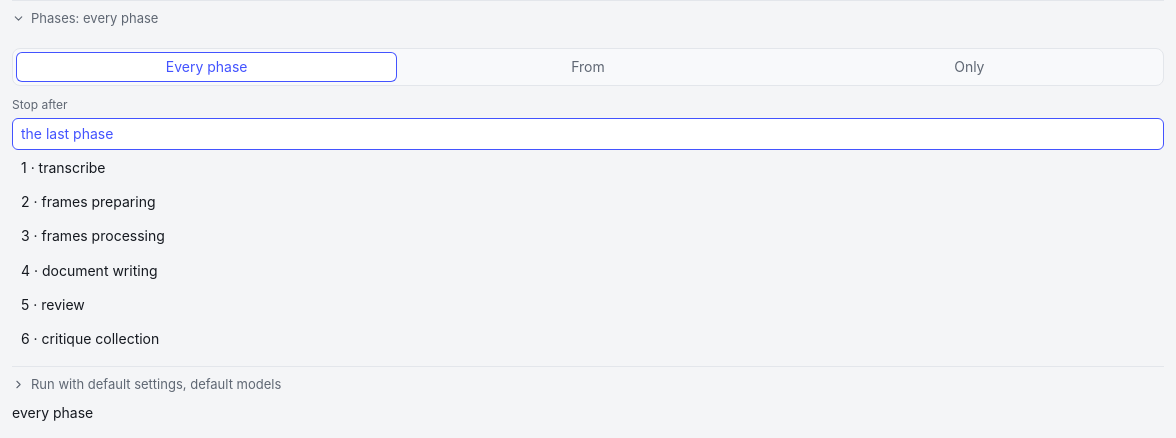
Test: PhaseSelector › folds the phases and the run settings so that opening one closes the other defect
This screenshot has width=1176, height=438.
Later steps or results of the test are not shown.
Click the heading "Run with default settings, default models" at (147, 384), box [12, 376, 281, 392]
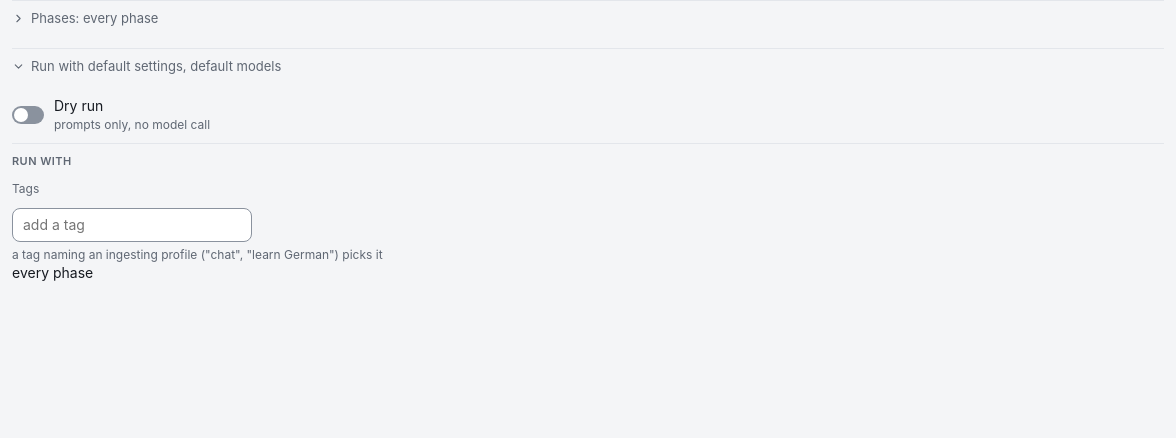
Click the checkbox labelled "Dry run prompts only, no model call" at (111, 114), box [12, 97, 210, 132]
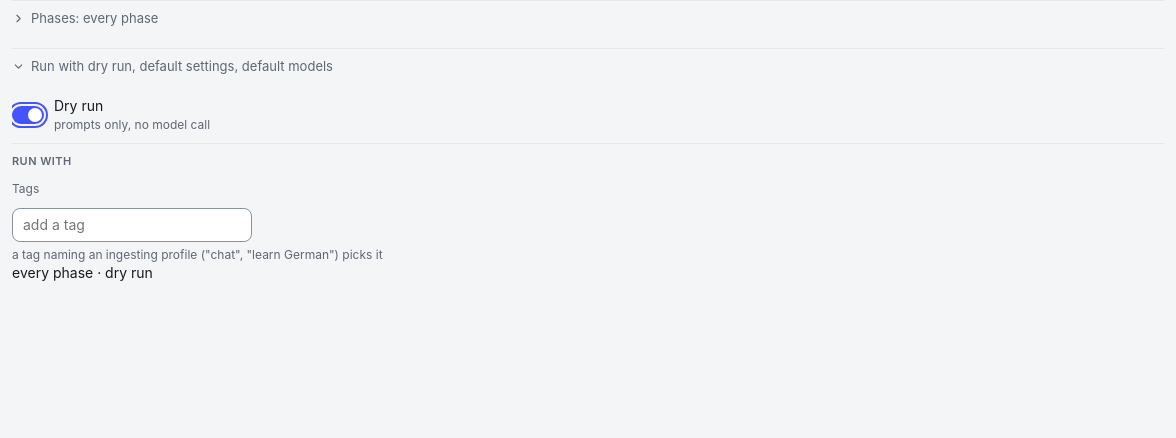
Check: the heading "Run with dry run, default settings, default models" is shown, box [12, 58, 333, 74]
